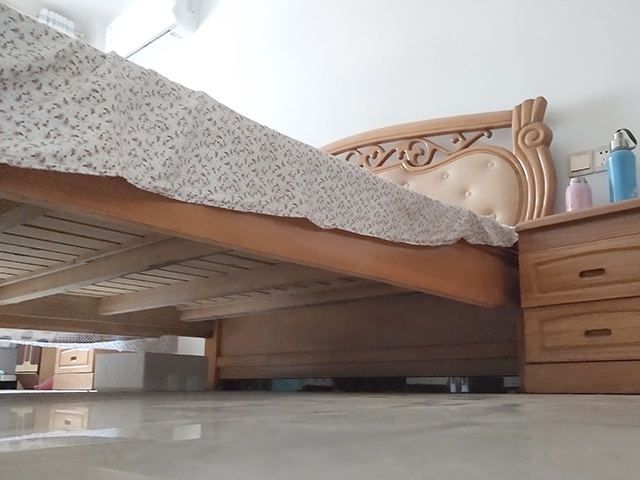bed: (1, 1, 561, 396)
cabinet: (512, 196, 640, 397), (49, 345, 100, 392)
